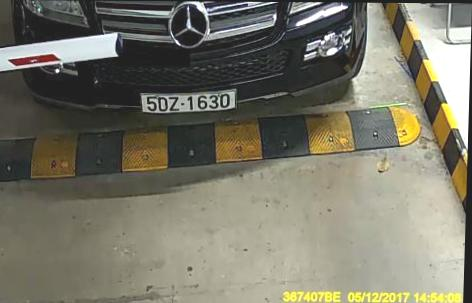License_Plate: (140, 88, 240, 115)
